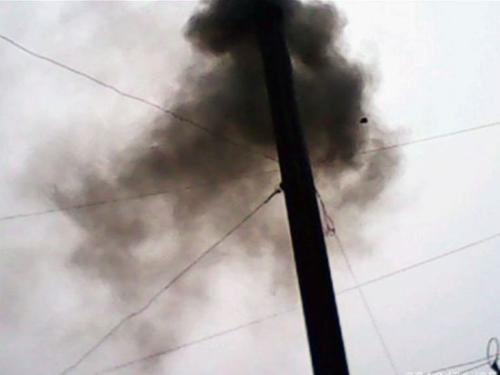smoke: (149, 3, 394, 180)
